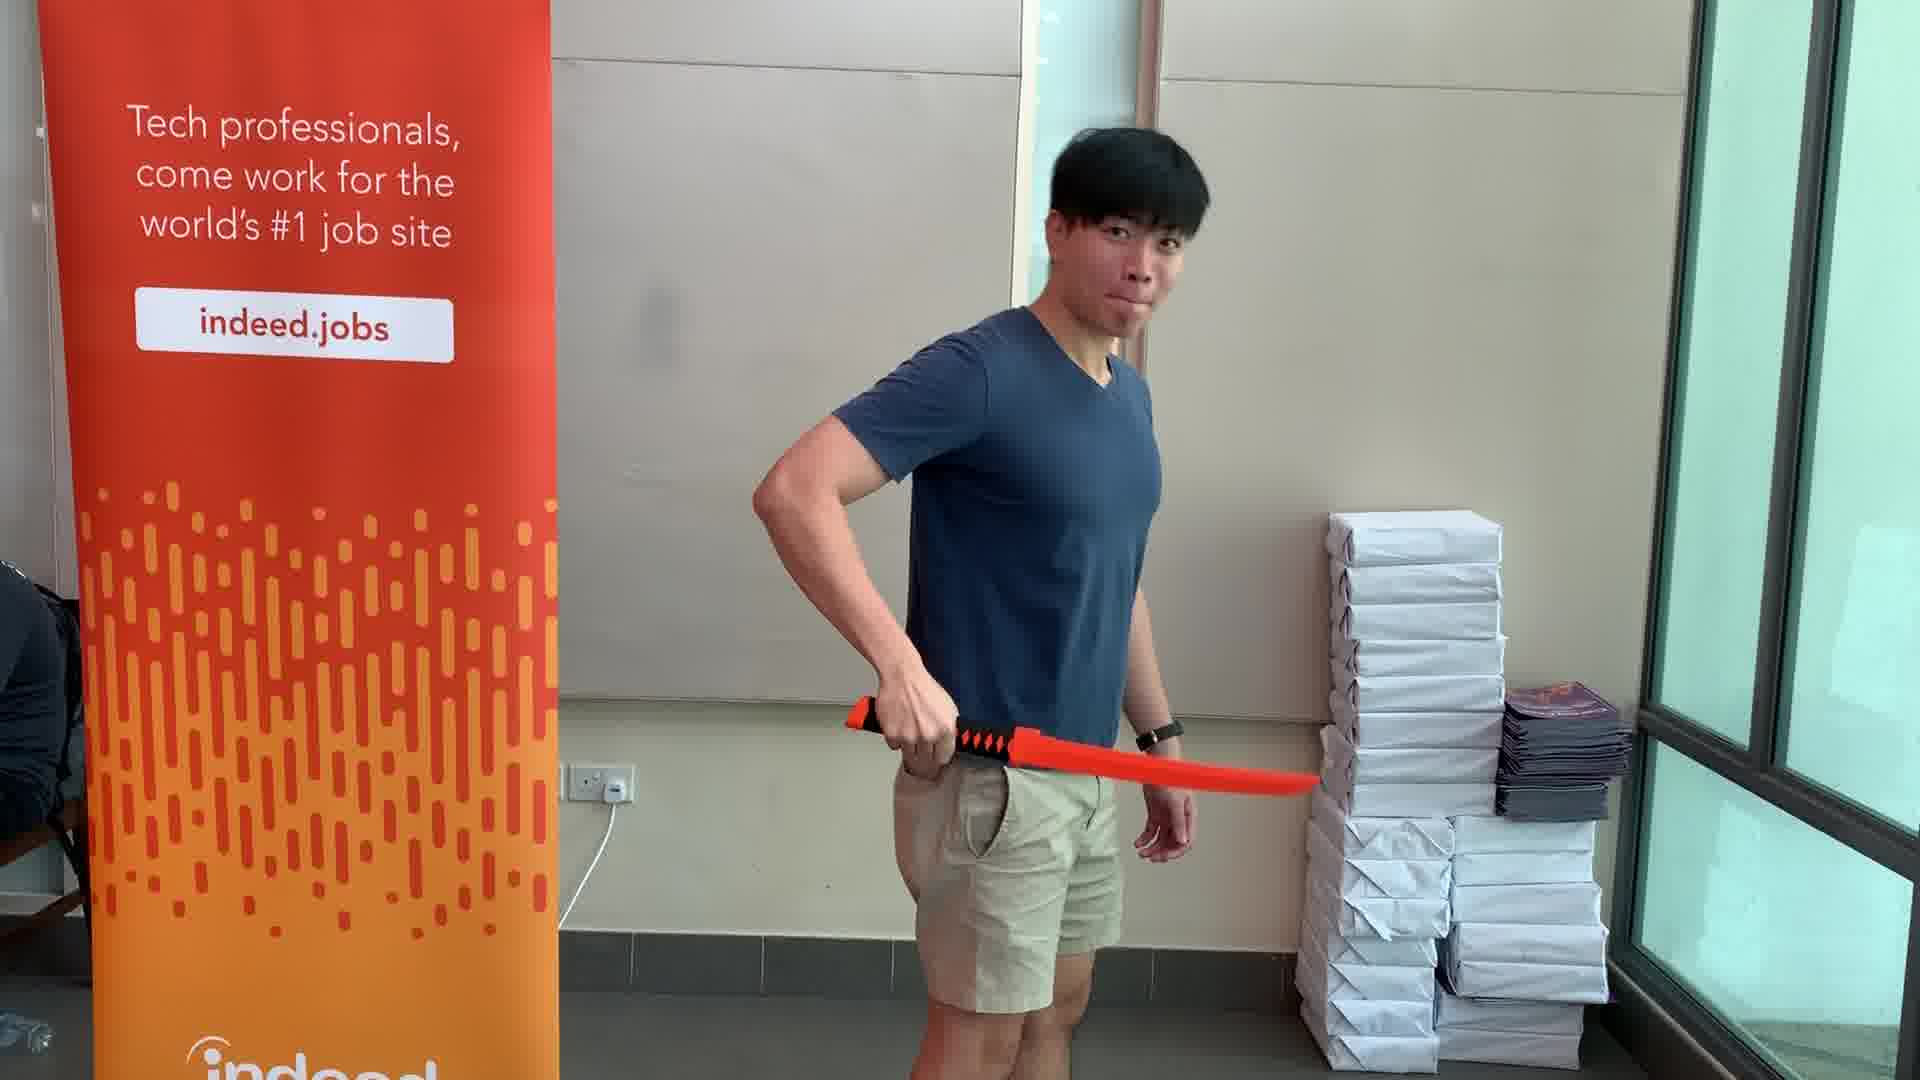knife: (840, 684, 1340, 811)
